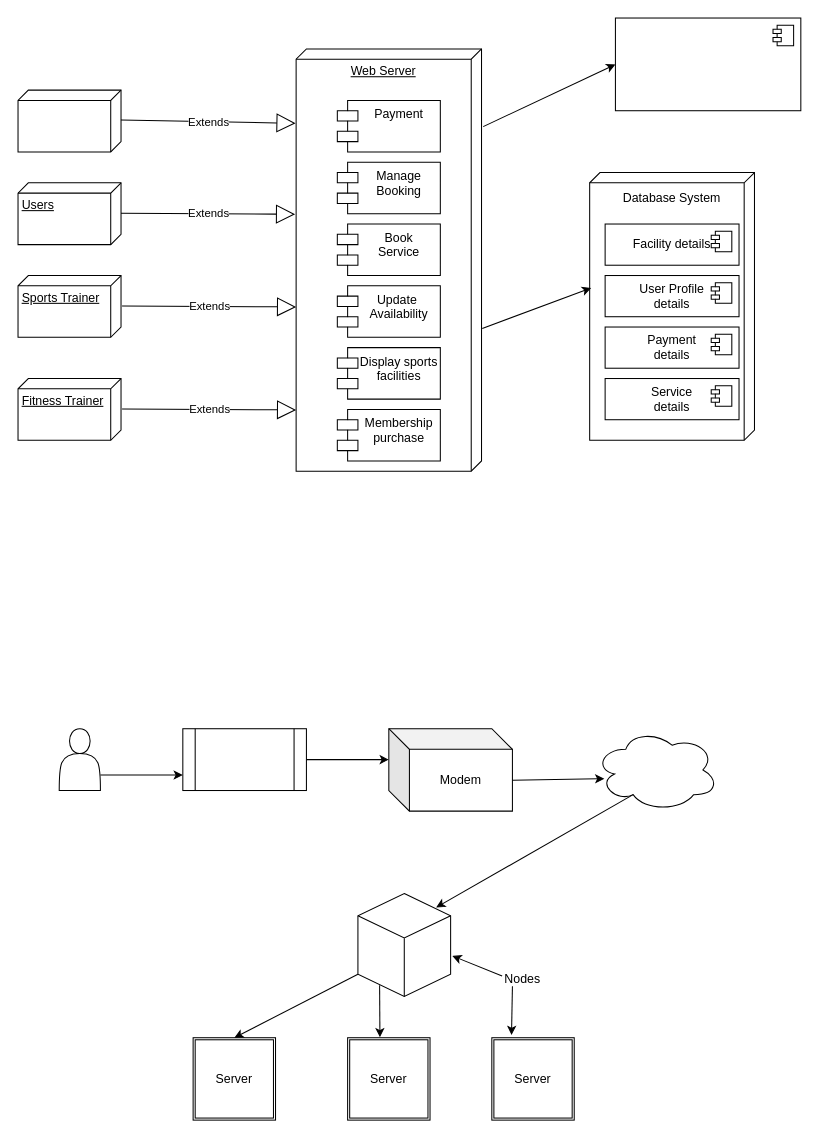
This 819x1138 diagram has some shape labels left out. The shapes that lost their labels are listed below. From the top down, each one's centre as x and y in pixels, then its label:
At point 707,64: "Payment Portal".
At point 69,120: "Admin".
At point 244,759: "Connection".
At point 656,769: "Internet".
At point 404,944: "Browser".
